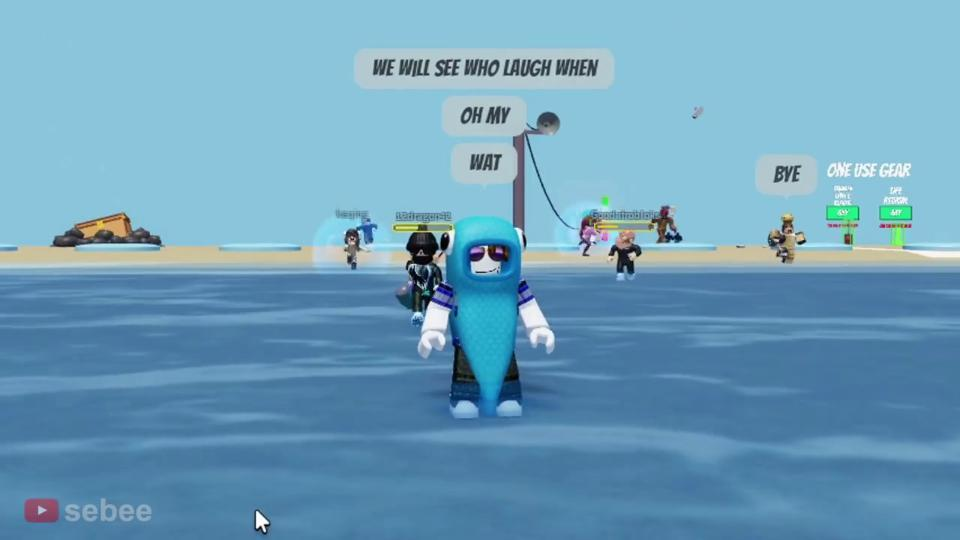Character: (416, 216, 555, 418), (395, 224, 444, 327), (767, 212, 807, 265), (608, 230, 643, 282), (342, 229, 371, 271), (650, 205, 682, 243), (579, 214, 604, 255), (358, 220, 378, 249)
